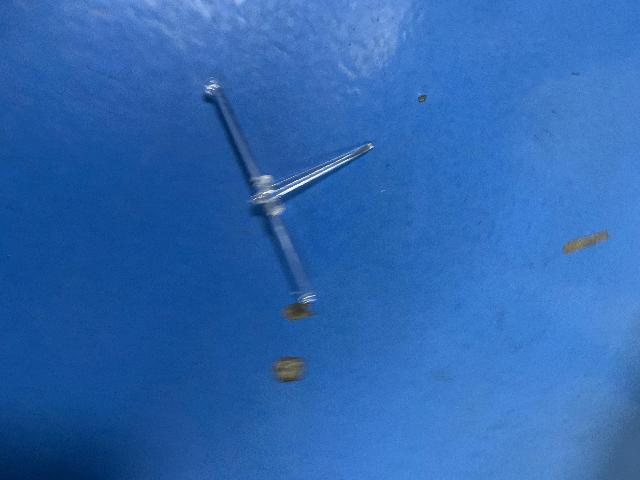Plastik: (187, 62, 379, 316)
